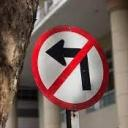NoVirarEsquerda: (31, 24, 111, 114)
